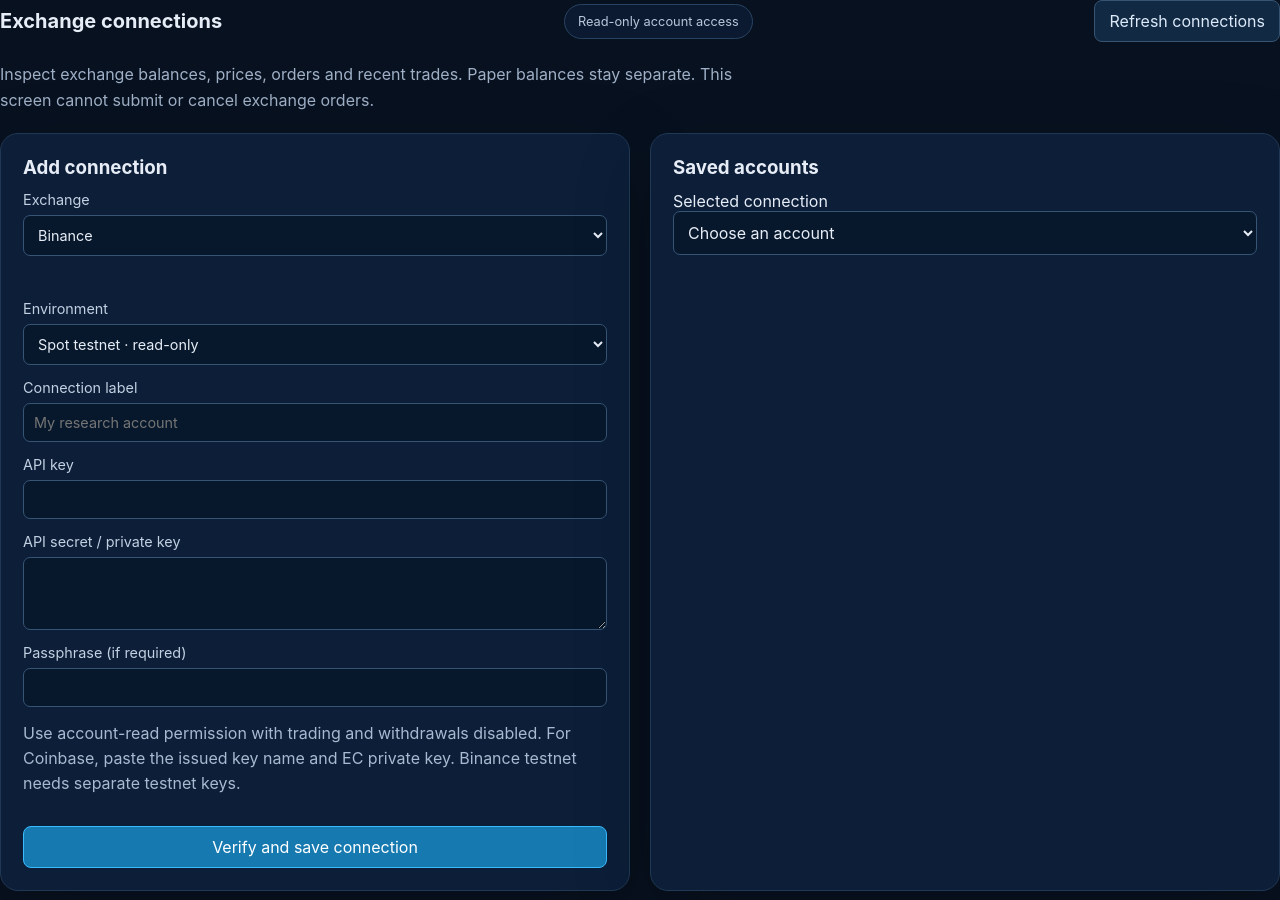
Test: reports provider errors and supports credential replacement and removal
Select "Research · binance · testnet" in the dropdown labelled "Selected connection" at (965, 233), box x1=673 y1=211 x2=1257 y2=255
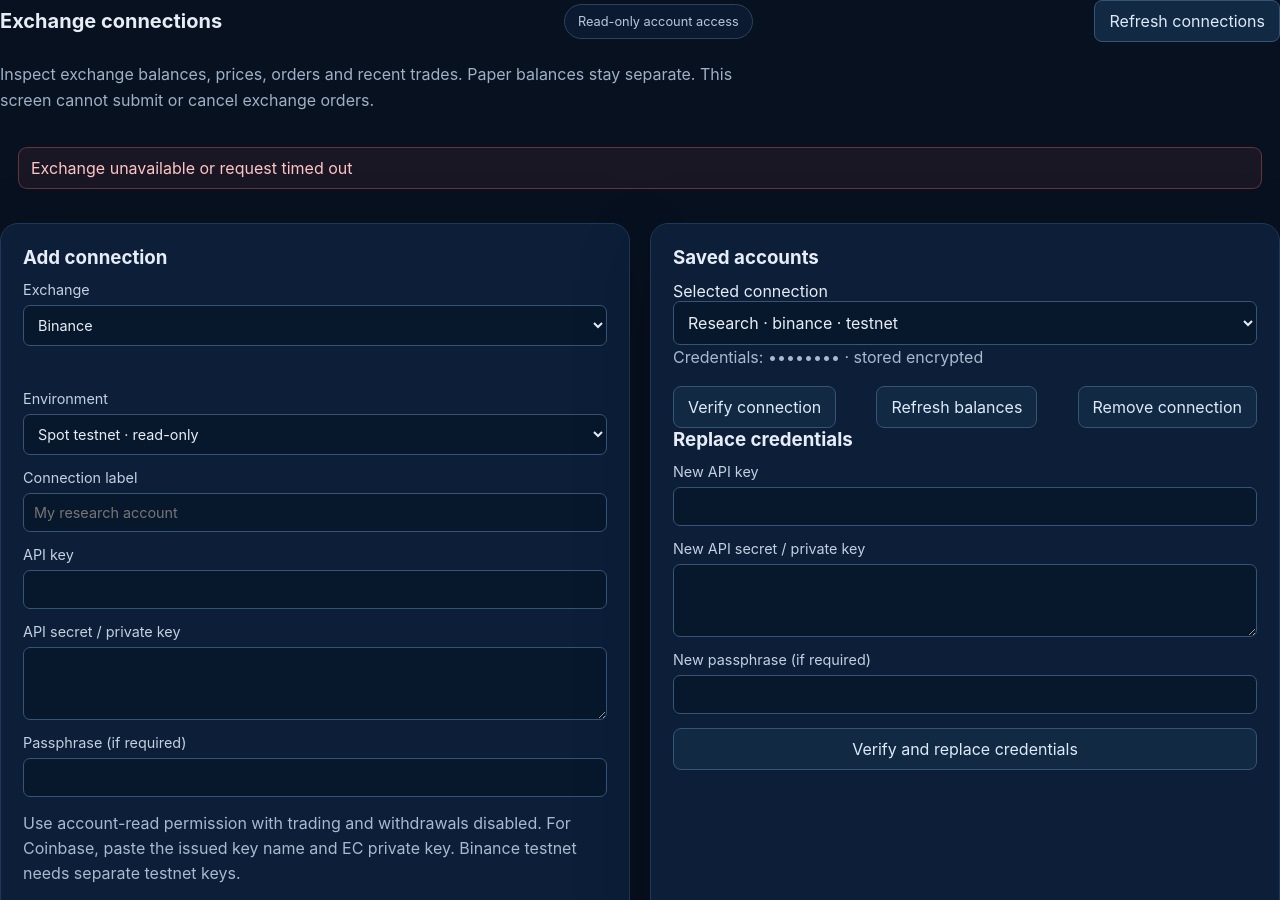
Expected: the message shows "Exchange unavailable", x1=31 y1=158 x2=352 y2=178
Type "new-ephemeral-key" into the password field labelled "New API key" at (965, 506), box x1=673 y1=487 x2=1257 y2=526
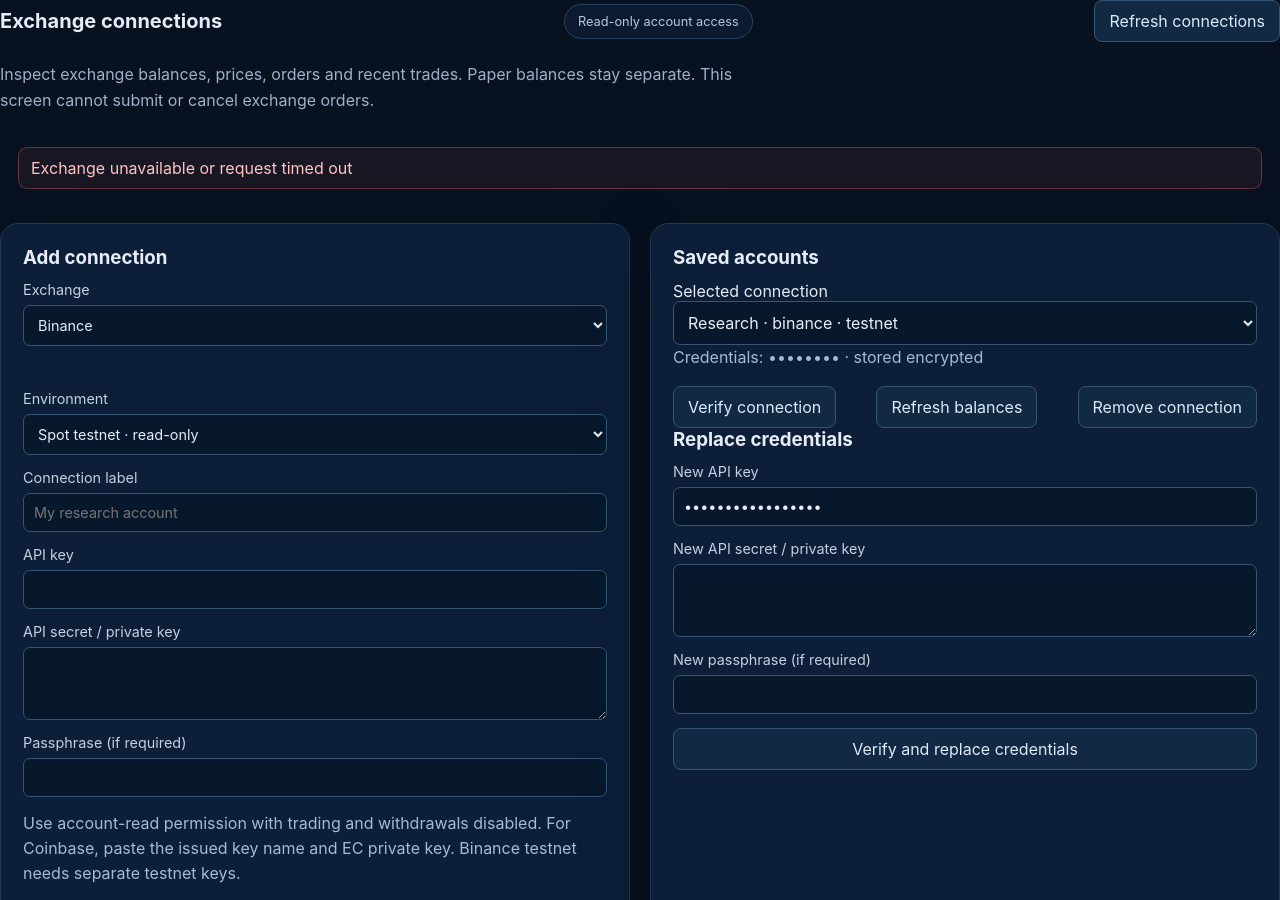
Type "new-ephemeral-secret" into the text box labelled "New API secret / private key" at (965, 600), box x1=673 y1=564 x2=1257 y2=637
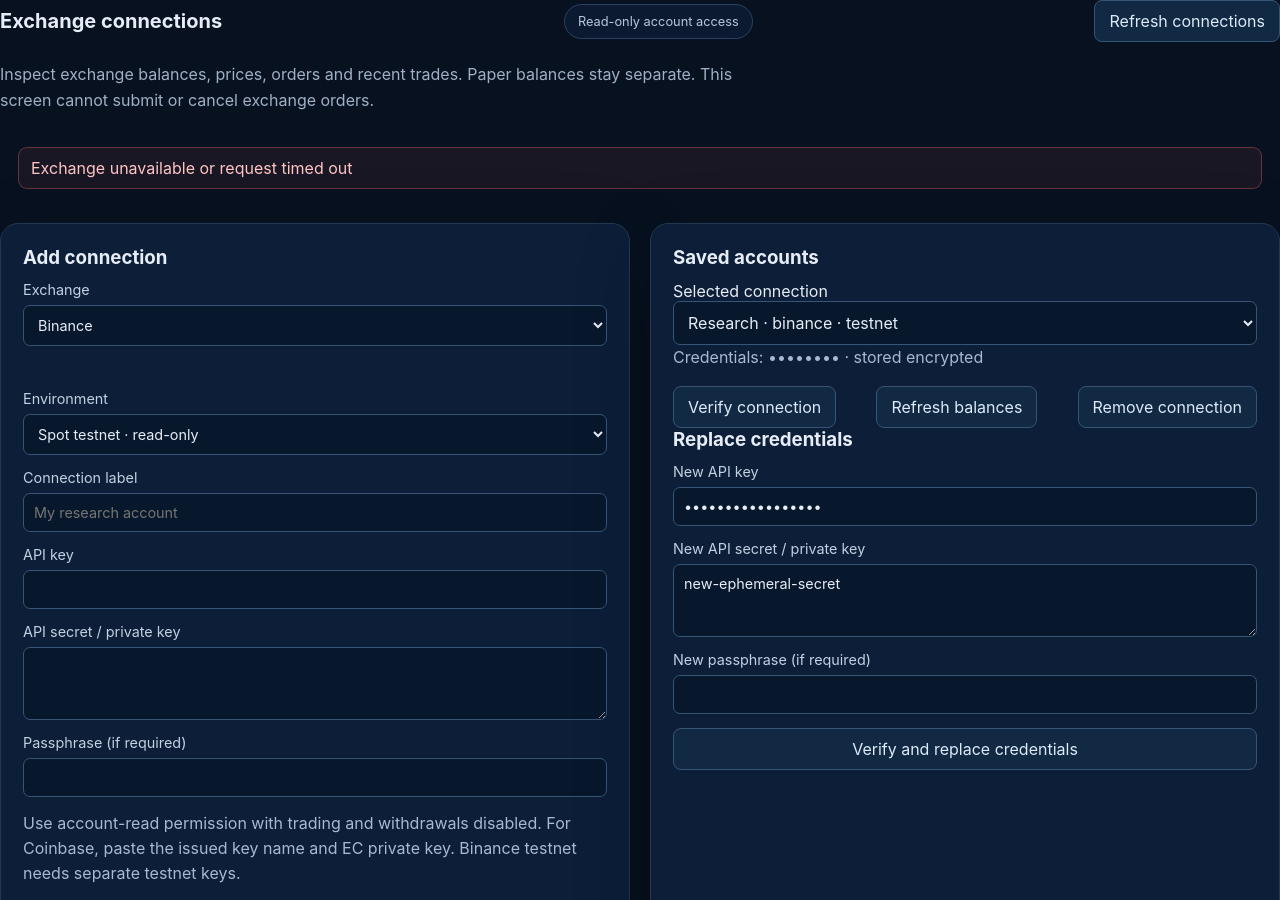
Click the button "Verify and replace credentials" at (965, 749), box x1=673 y1=728 x2=1257 y2=770
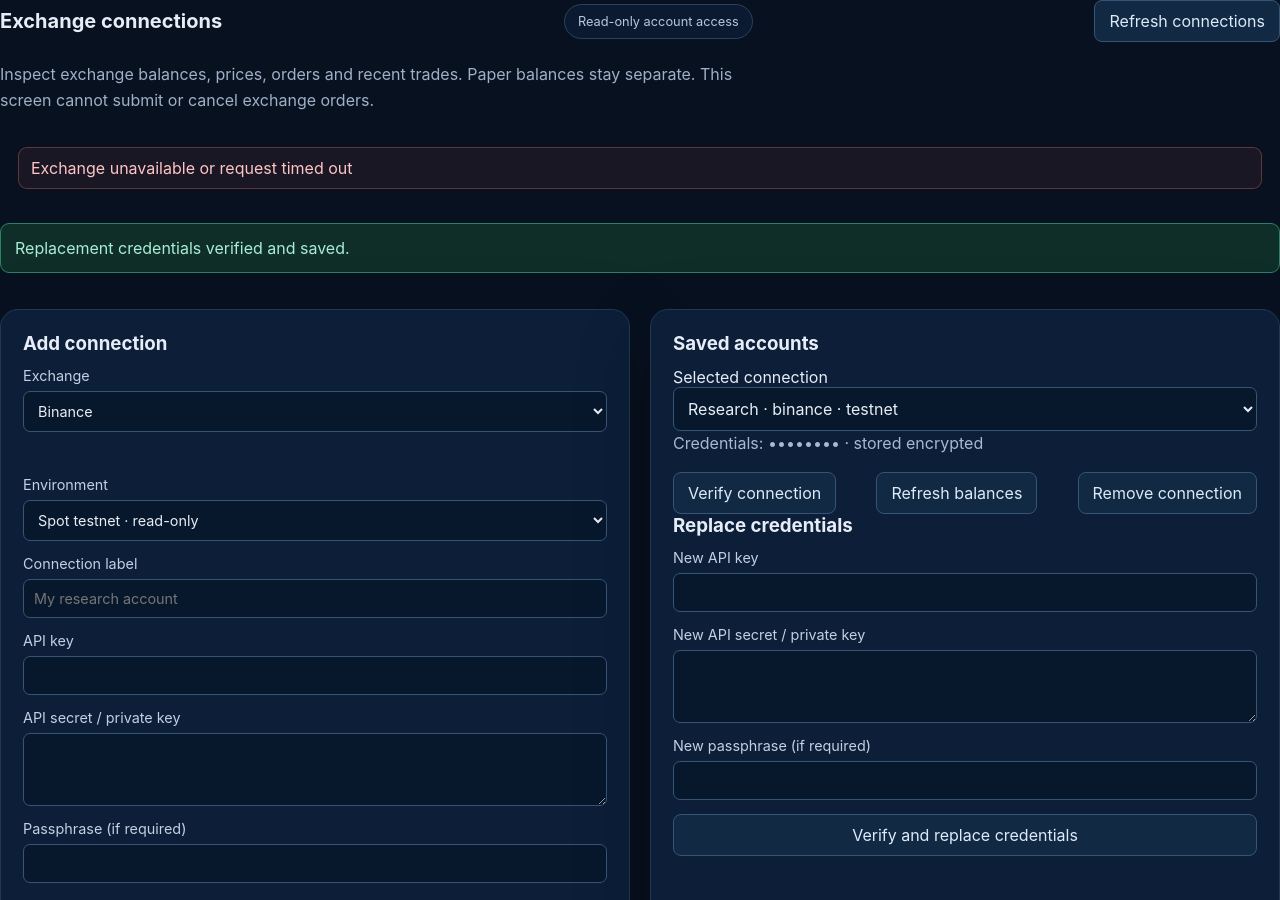
Expected: the button "Remove connection" is enabled
Click the button "Remove connection" at (1167, 493), box x1=1078 y1=472 x2=1257 y2=514
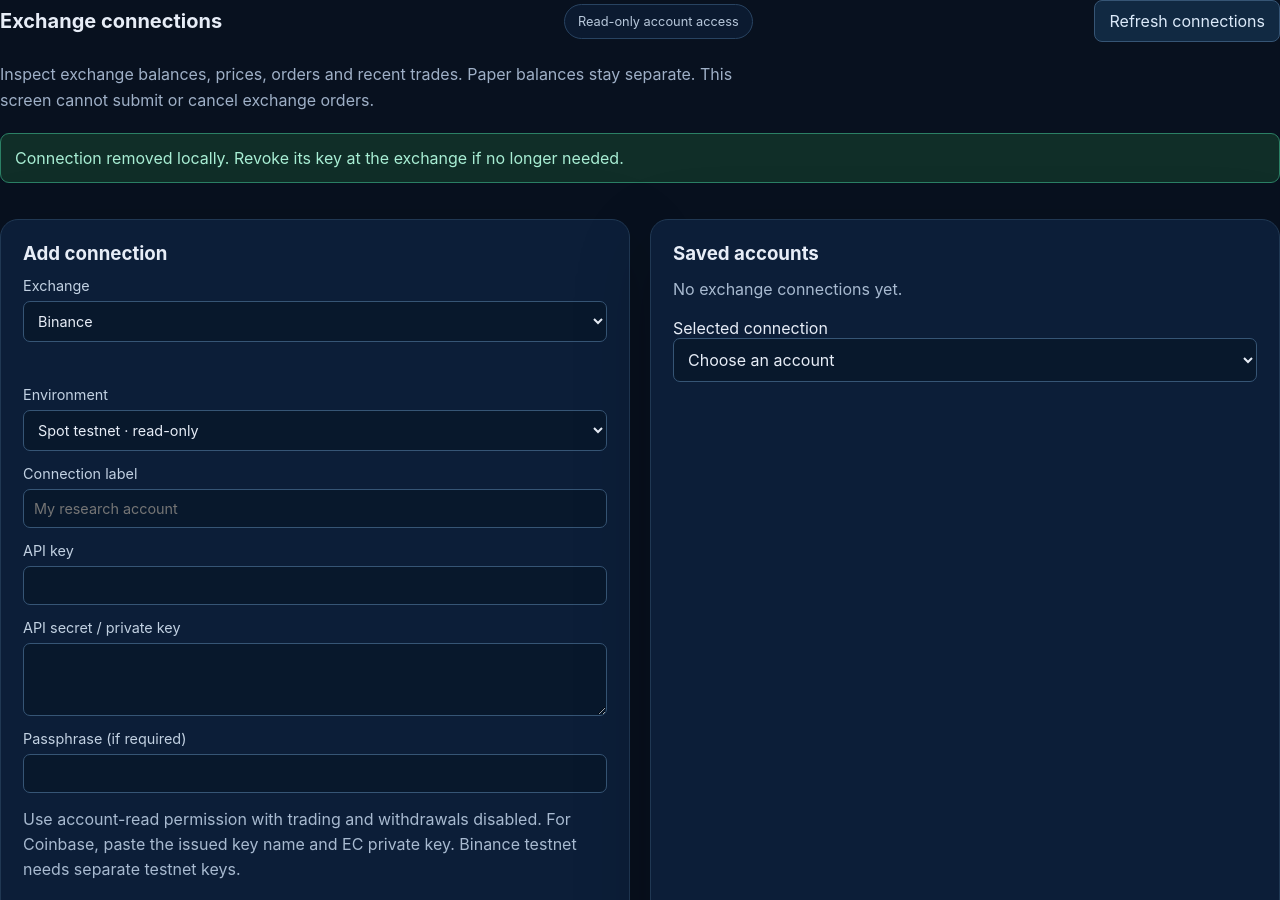
Expected: the text "No exchange connections yet." is shown, x1=673 y1=279 x2=902 y2=299
